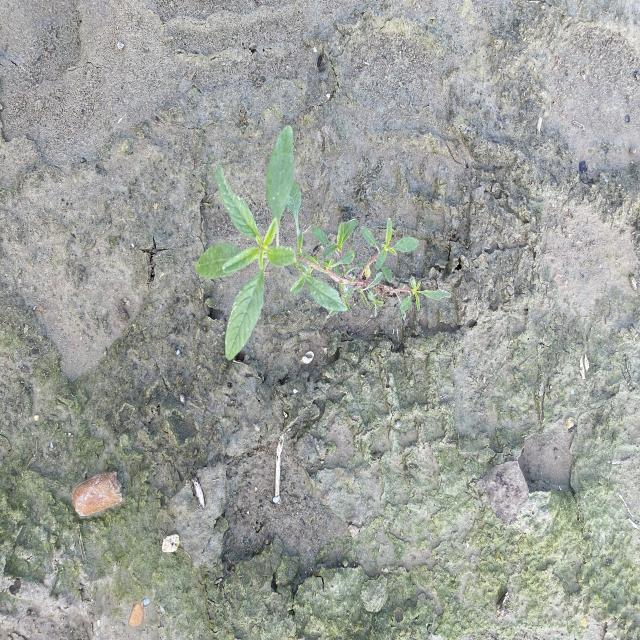Waterhemp: (193, 123, 451, 362)
